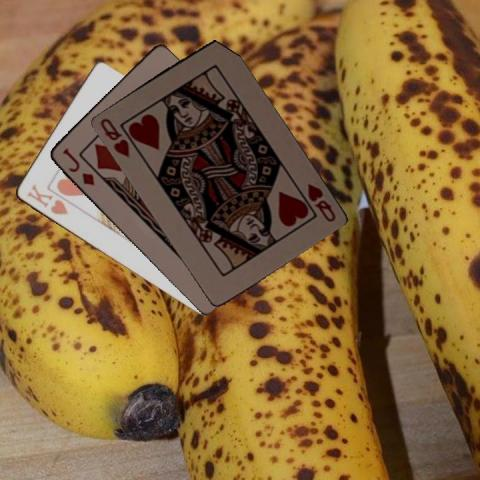Jd: (59, 145, 95, 187)
Kh: (24, 180, 70, 216)
Qh: (96, 115, 130, 159), (304, 180, 337, 224)
